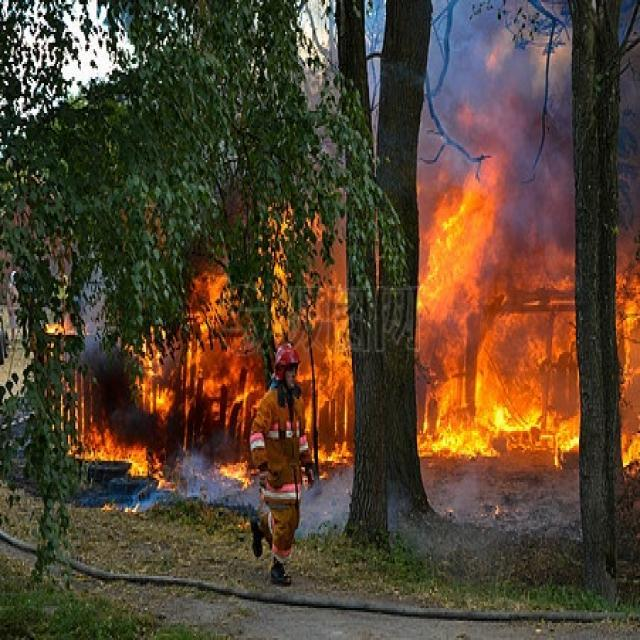Fire: (44, 198, 355, 514), (416, 156, 579, 470), (614, 228, 640, 480)
Smoke: (422, 2, 574, 241), (130, 452, 262, 512), (617, 2, 640, 226), (76, 262, 122, 372), (294, 460, 355, 538), (364, 2, 386, 158), (431, 472, 487, 522)
